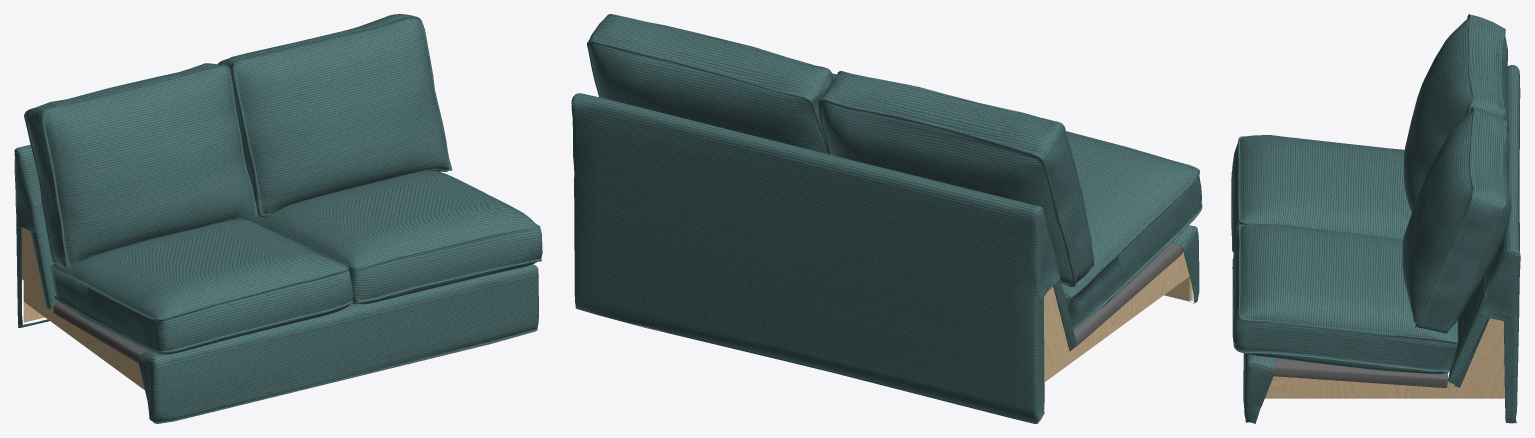
File: kivik-2seater.glb
The picture shows the model from 3 angles, left to right: view 1: azimuth 30°, elevation 25°; view 2: azimuth 150°, elevation 25°; view 3: azimuth 270°, elevation 25°; orthographic projection. The views are drawn at different scales.
Parts seen in each view (by area): view 1: fabric, wood, grey material; view 2: fabric, wood, grey material; view 3: fabric, wood, grey material.
Boxes of the visible parts, bbox=[...] form: fabric: bbox=[14, 14, 542, 423]; wood: bbox=[22, 227, 144, 389]; grey material: bbox=[53, 302, 147, 362]; fabric: bbox=[571, 14, 1202, 423]; wood: bbox=[1044, 252, 1192, 382]; grey material: bbox=[1073, 242, 1183, 347]; fabric: bbox=[1231, 14, 1520, 423]; wood: bbox=[1265, 318, 1504, 398]; grey material: bbox=[1273, 358, 1447, 387].
Size of the model in its own units: 1.45 by 0.8383 by 0.9468.
3 materials, 2 textured.
